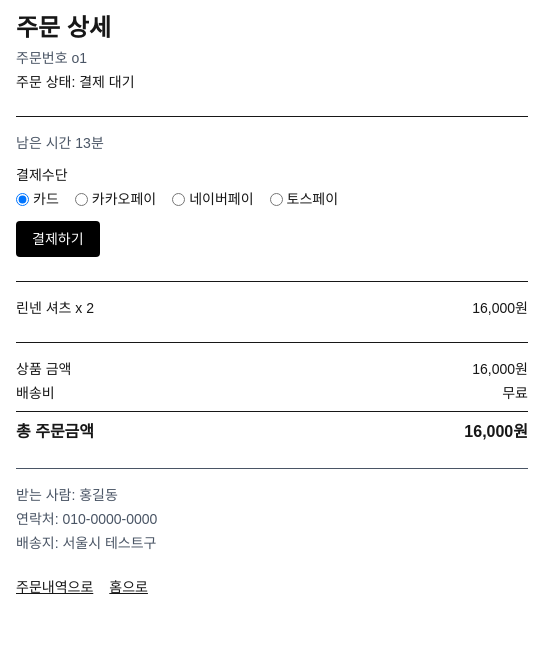
Test: 결제하기 동작 › 실패: 결제창이 메시지 없이 취소되면 기본 문구를 보인다
The width and height of the screenshot is (545, 655).
Click the button "결제하기" at (58, 239), box [16,221,100,257]
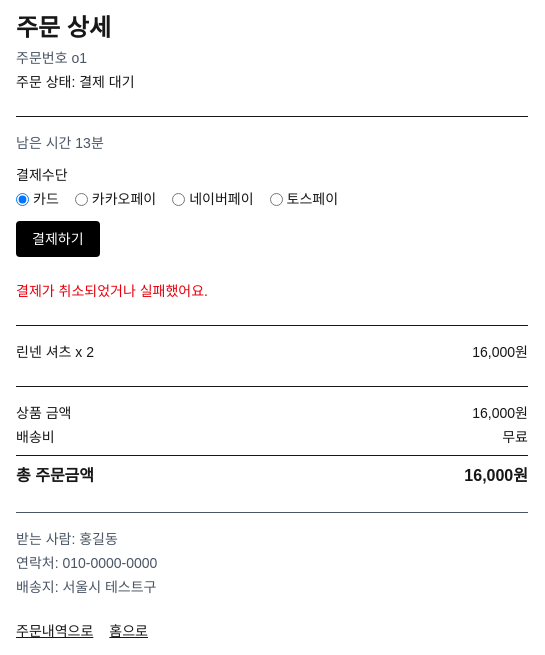
Check: the message "결제가 취소되었거나 실패했어요." is shown, box [16,283,208,299]
